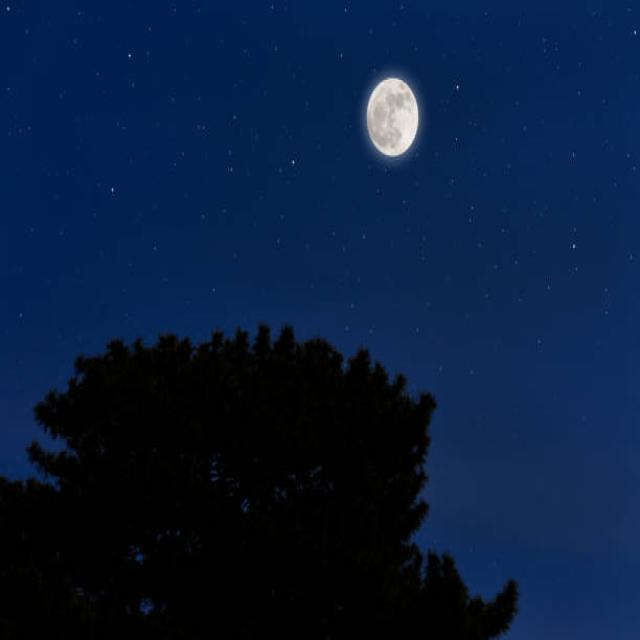moon: (364, 77, 418, 156)
